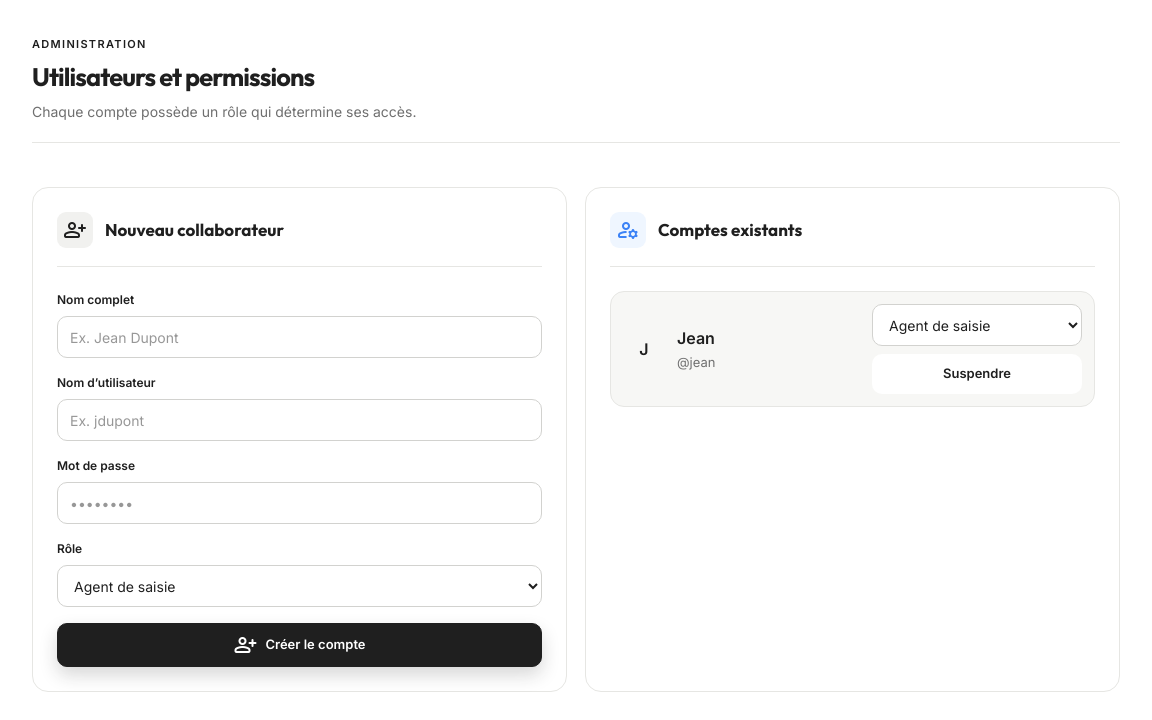
it: UserManagementPage › suspends and reactivates an account through the admin RPC
Click the button with aria-label "Suspendre Jean": coordinates (977, 374) [872,354,1082,394]
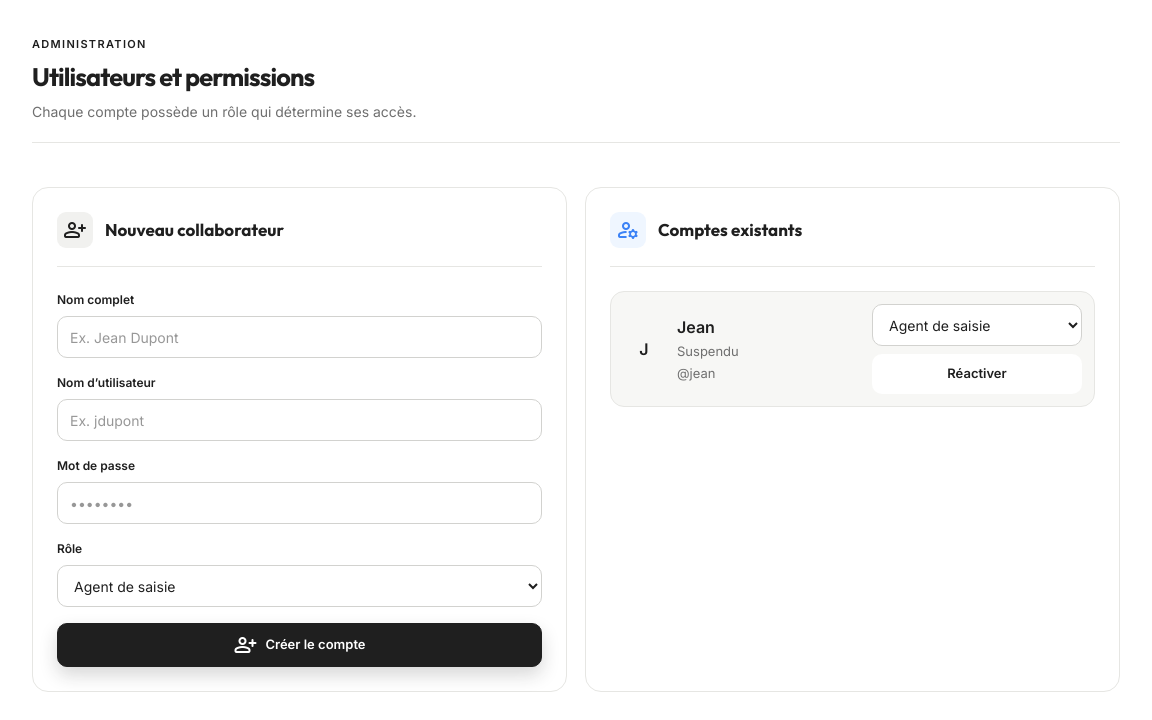
Result: the text "Suspendu" is shown at [677,343,739,359]
Click the button with aria-label "Réactiver Jean": coordinates (977, 374) [872,354,1082,394]
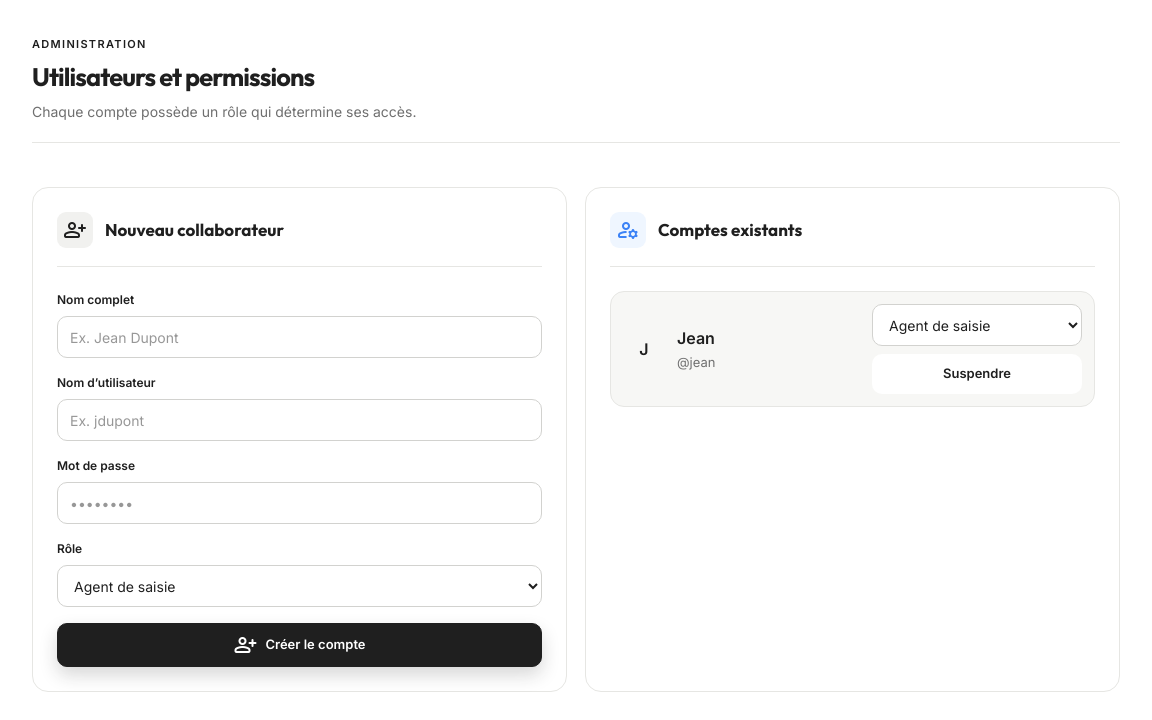
Result: the button with aria-label "Suspendre Jean" is shown at [872,354,1082,394]
Result: the text "Suspendu" is gone
